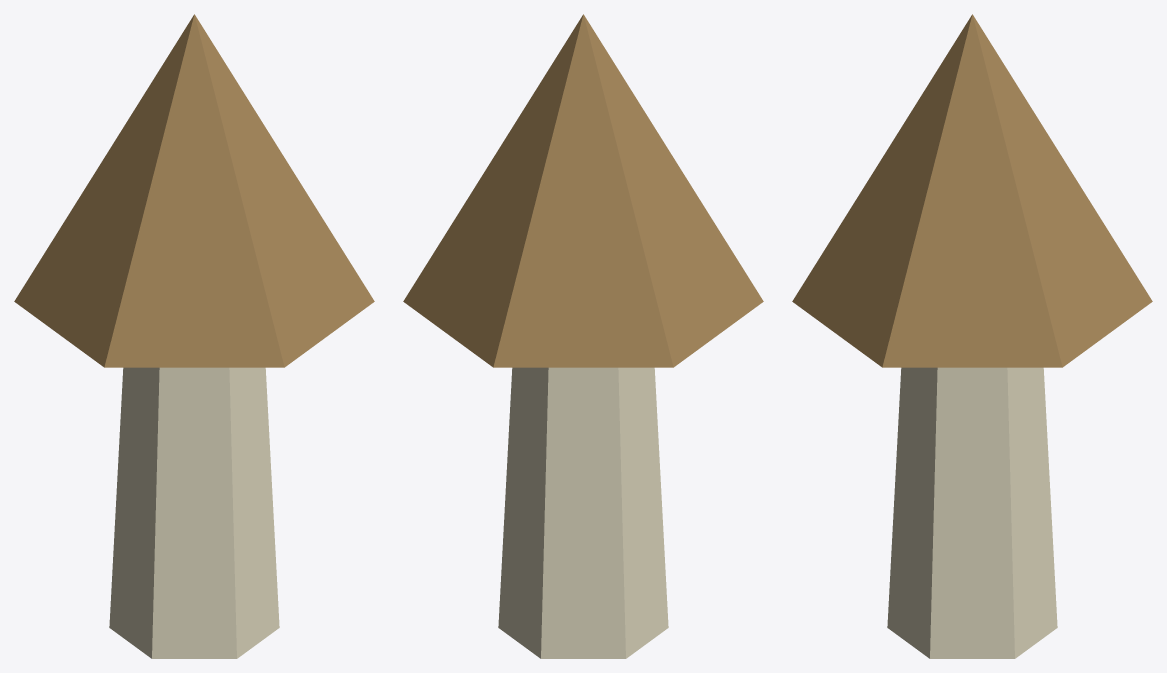
The model's file is Vegetation_New_Mushroom_Brown_06.FBX.
3 renders of one model, left to right at view 1: azimuth 30°, elevation 25°; view 2: azimuth 150°, elevation 25°; view 3: azimuth 270°, elevation 25°, orthographic.
Visible parts, largest first — view 1: Vegetation_New_Mushroom_Brown_06; view 2: Vegetation_New_Mushroom_Brown_06; view 3: Vegetation_New_Mushroom_Brown_06.
Part boxes in pixels (x1,y1,x2,y2): Vegetation_New_Mushroom_Brown_06: (14,14,374,658); Vegetation_New_Mushroom_Brown_06: (403,14,763,658); Vegetation_New_Mushroom_Brown_06: (792,14,1152,658).
Bounding box in the file's own units: 402 × 871 × 464.
